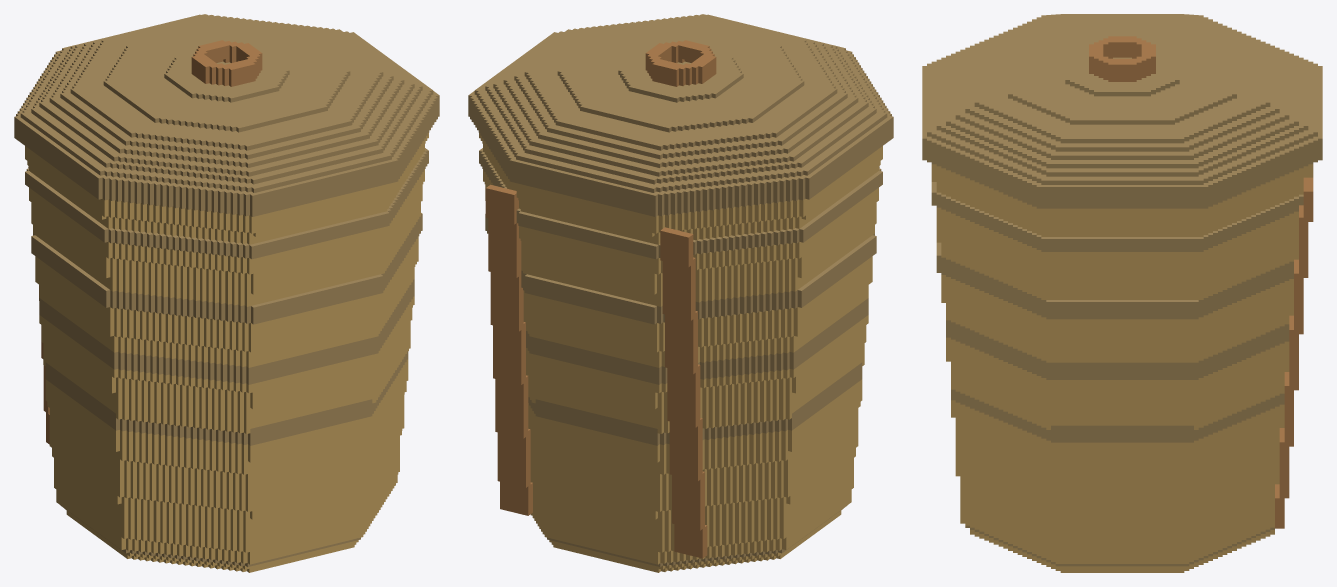
The model's file is wicker_backpack.glb.
3 views of the same model, side by side, from view 1: azimuth 30°, elevation 25°; view 2: azimuth 150°, elevation 25°; view 3: azimuth 270°, elevation 25° (orthographic).
Visible parts, largest first — view 1: wicker_backpack:compound; view 2: wicker_backpack:compound; view 3: wicker_backpack:compound.
Boxes of the visible parts, x1,y1,x2,y2 form: wicker_backpack:compound: (14,14,439,572); wicker_backpack:compound: (468,14,893,572); wicker_backpack:compound: (922,14,1322,572).
Size of the model in its own units: 0.336 by 0.424 by 0.336.
